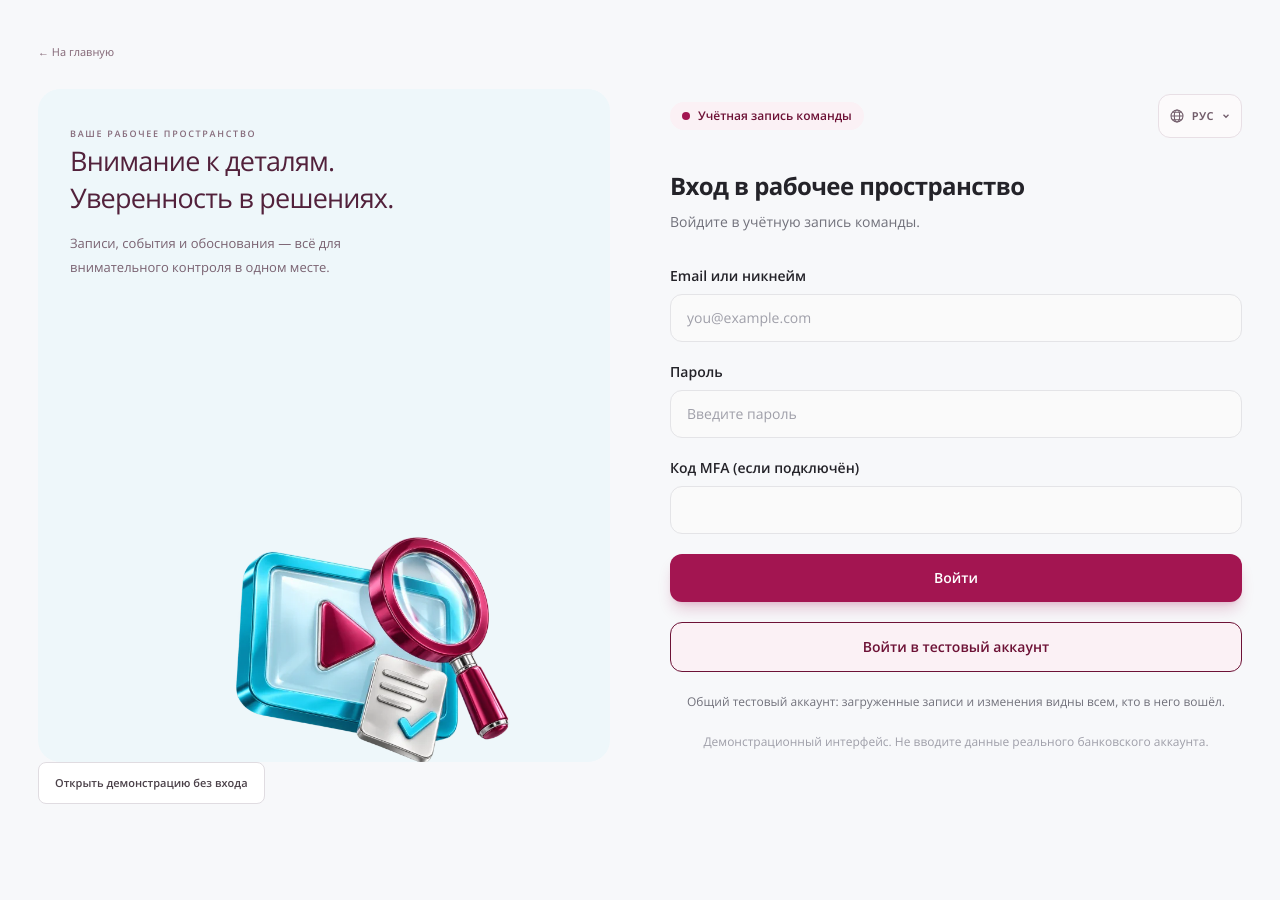
Test case: pending sign-in prevents duplicate submissions and an API failure keeps the form available
In the field labelled "Email или никнейм": (956, 318) [670,294,1242,342], type "personal@example.com"
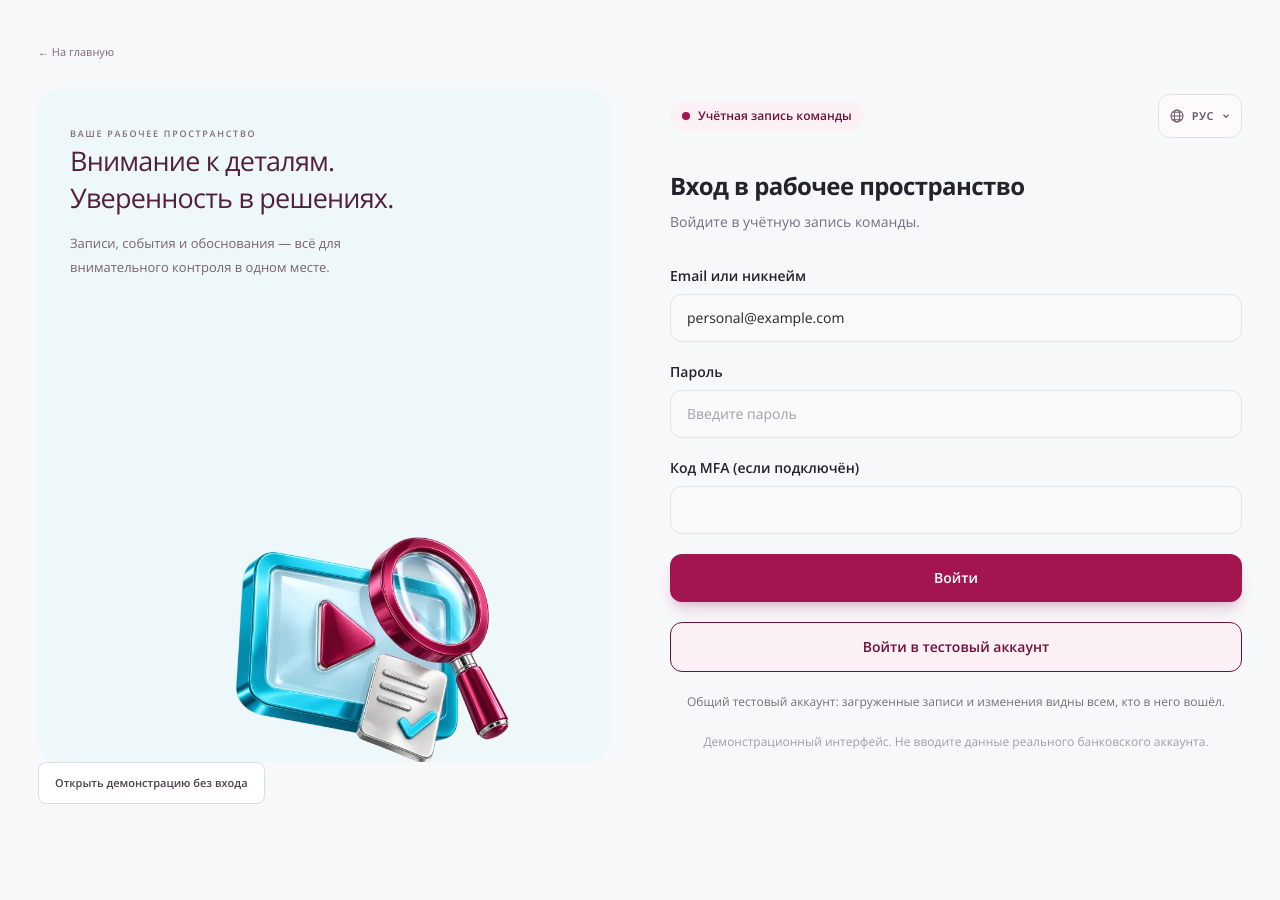
Click the button "Войти в тестовый аккаунт": (956, 647) [670,622,1242,672]
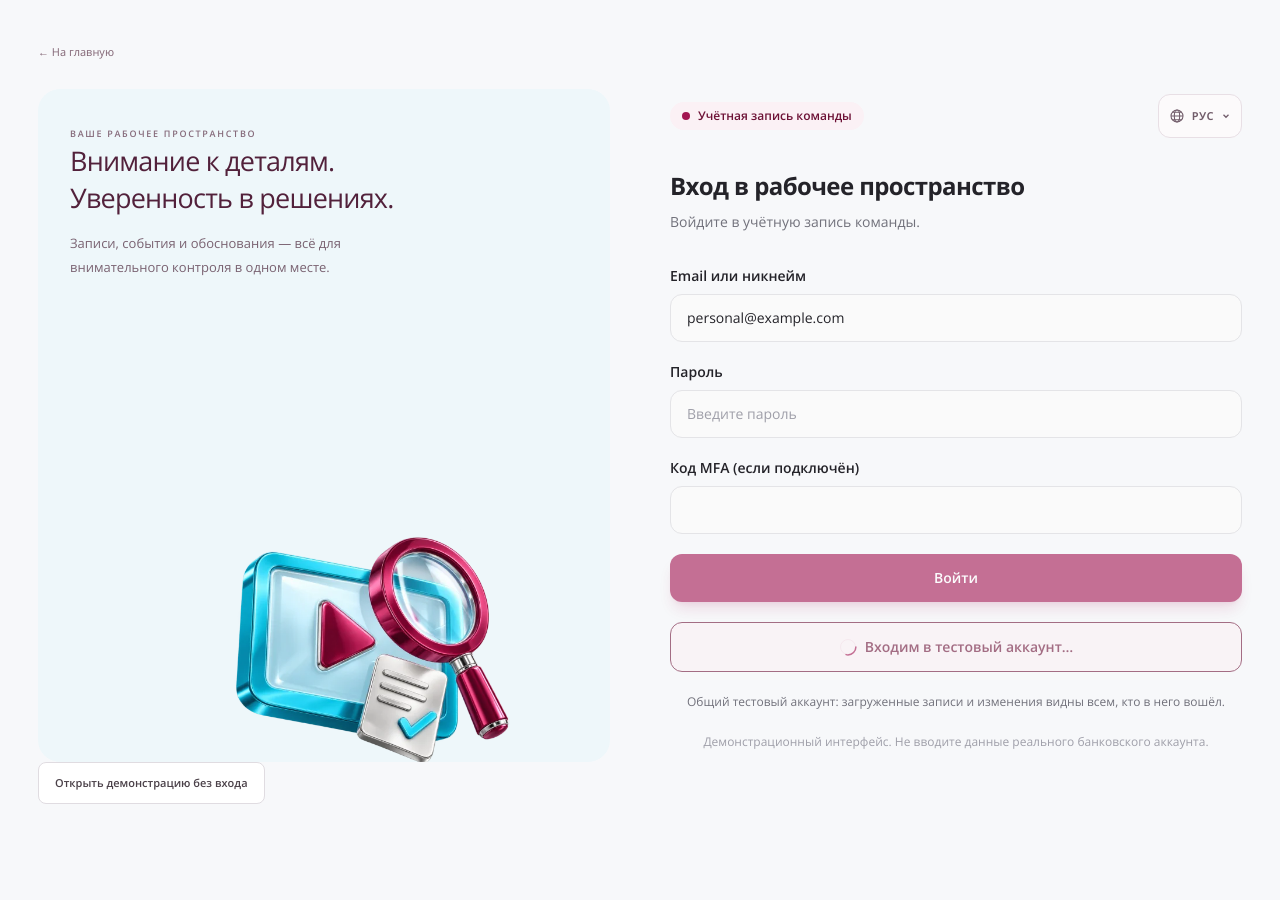
Result: the button named "Войти в тестовый аккаунт" is disabled
Result: the button "Войти" is disabled at [670,554,1242,602]
Click the button named "Войти в тестовый аккаунт": (956, 647) [670,622,1242,672]
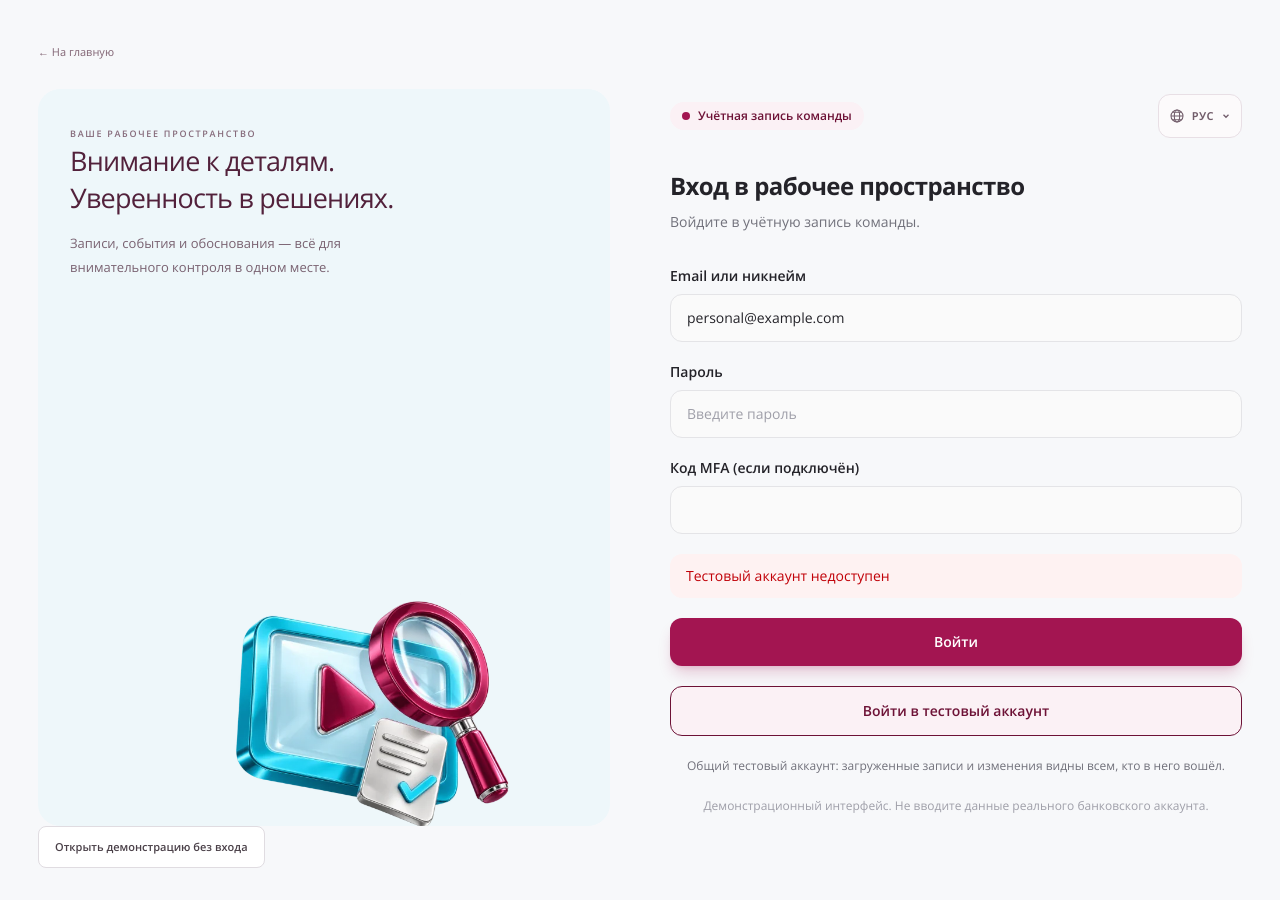
Result: the message reads "Тестовый аккаунт недоступен" at [686,566,890,585]
Result: the button "Войти в тестовый аккаунт" is enabled at [670,686,1242,736]
